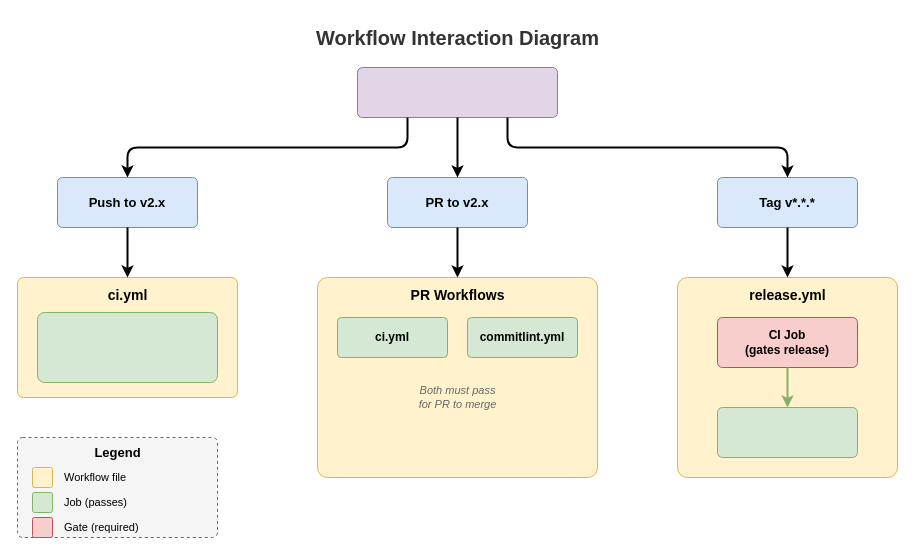
The diagram is 915 pixels wide and 555 high, and some of its shapes have lost their labels. Each missing label, with the centre of its shape:
"CI Job • type-check • lint" goes at pixel 127 347.
"GitHub Events" goes at pixel 457 92.
"Release Job" goes at pixel 787 432.
